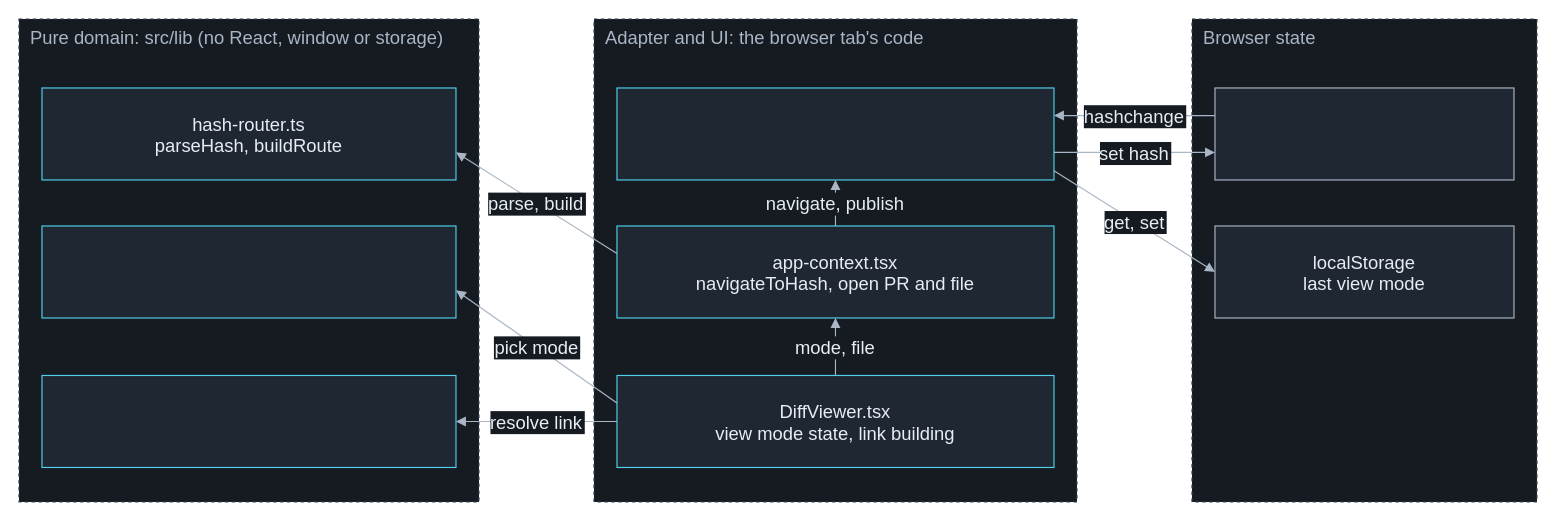
The diagram is 1556 pixels wide and 521 high, and some of its shapes have lost their labels. The centre of each missing label's shape, as x and y in pixels:
"Address bar location.hash" goes at (x=1364, y=133).
"link-handler.ts, review-links.ts classifyLink, resolveReviewLink" goes at (x=248, y=420).
"route-adapter.ts reads and writes hash and mode" goes at (x=835, y=133).
"view-mode.ts pickMode, mode tokens" goes at (x=248, y=271).
